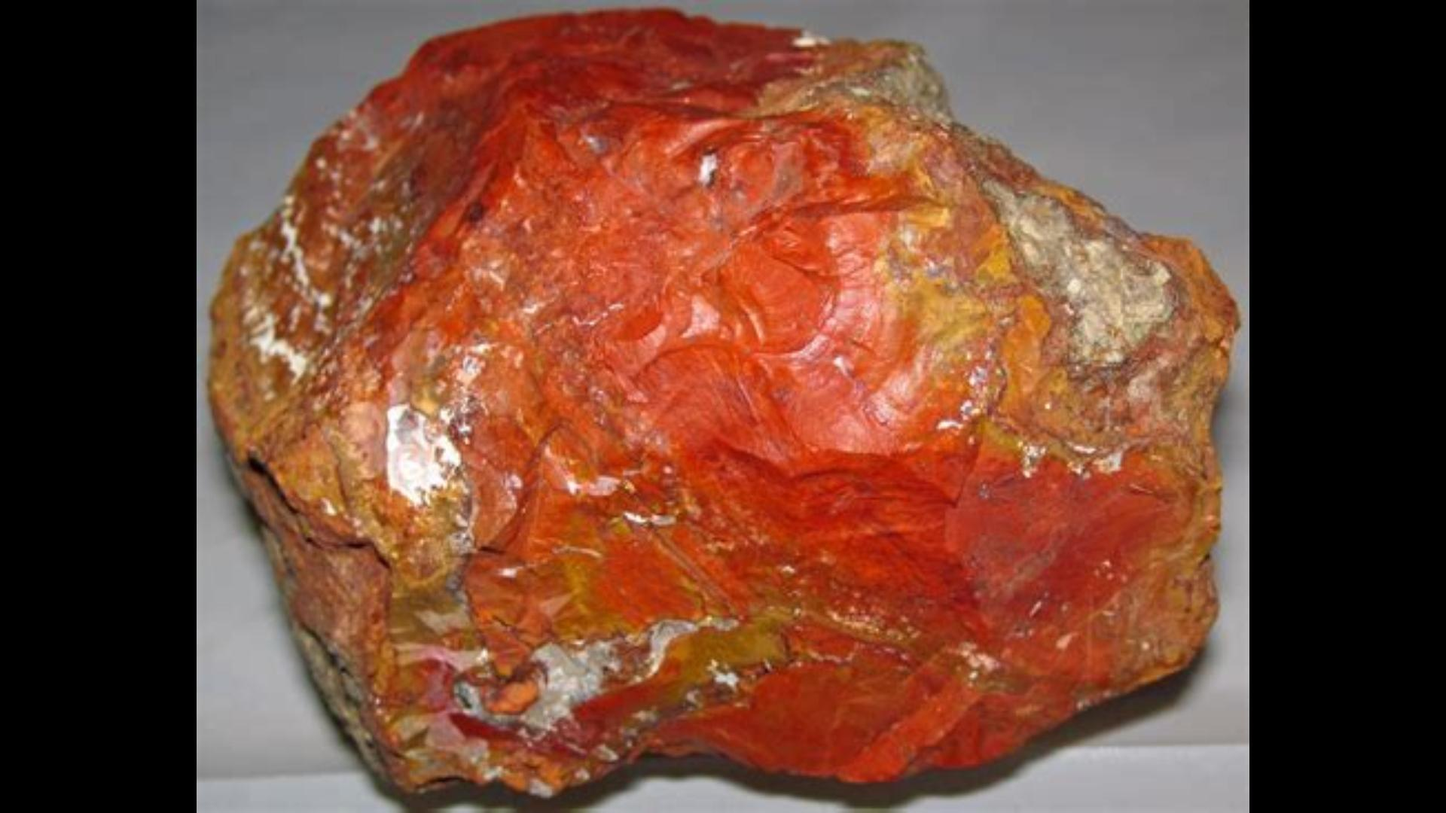rock: (214, 11, 1230, 793)
